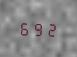nine: (32, 19, 44, 37)
six: (18, 19, 30, 36)
two: (45, 20, 57, 37)
